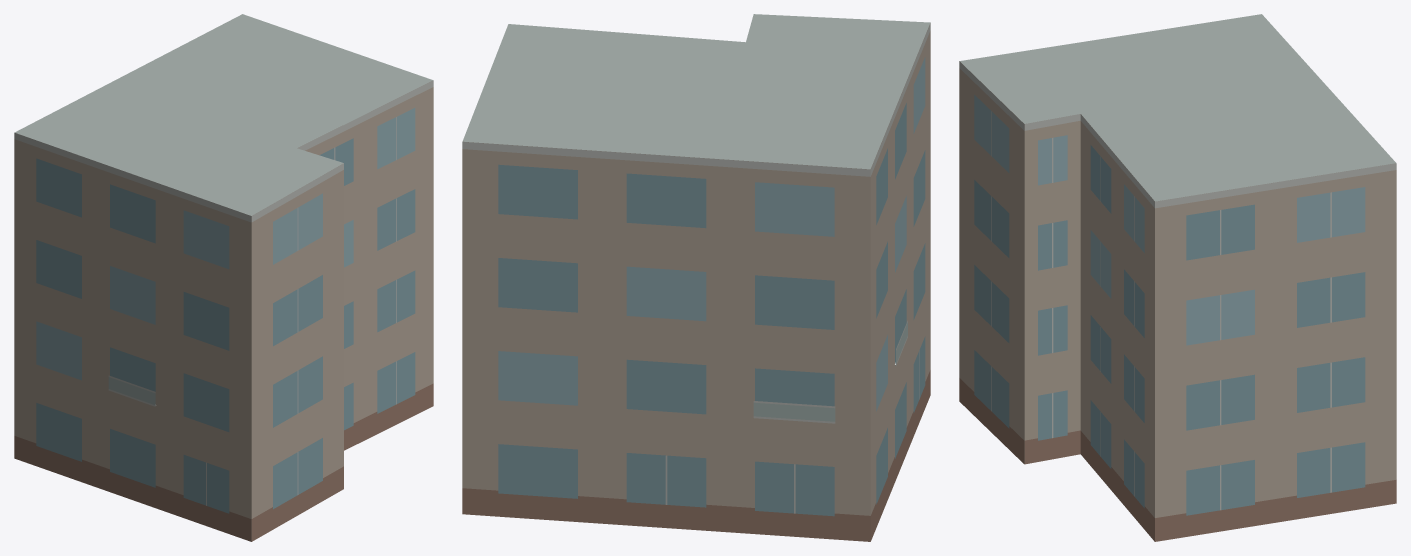
Rendered from survey-upis-32851407.glb.
3 renders of one model, left to right at view 1: azimuth 30°, elevation 25°; view 2: azimuth 150°, elevation 25°; view 3: azimuth 270°, elevation 25°, orthographic. The views are drawn at different scales.
Parts seen in each view (by area): view 1: survey-upis-32851407.tmp; view 2: survey-upis-32851407.tmp; view 3: survey-upis-32851407.tmp.
Part boxes in pixels (left/top/right/bottom): survey-upis-32851407.tmp: left=14, top=14, right=433, bottom=541; survey-upis-32851407.tmp: left=462, top=14, right=930, bottom=541; survey-upis-32851407.tmp: left=959, top=14, right=1396, bottom=541.
Bounding box in the file's own units: 14.43 × 12.2 × 14.21.
